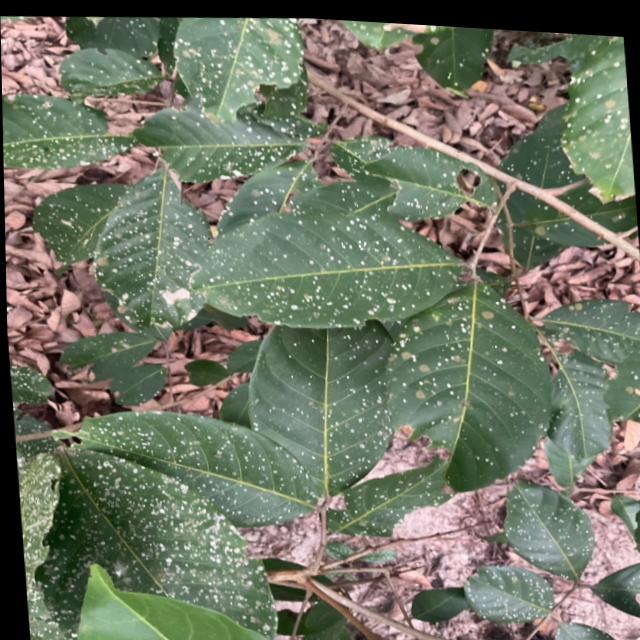Algal Leaf Spot: (2, 133, 522, 294), (11, 397, 283, 640), (52, 2, 354, 173)
